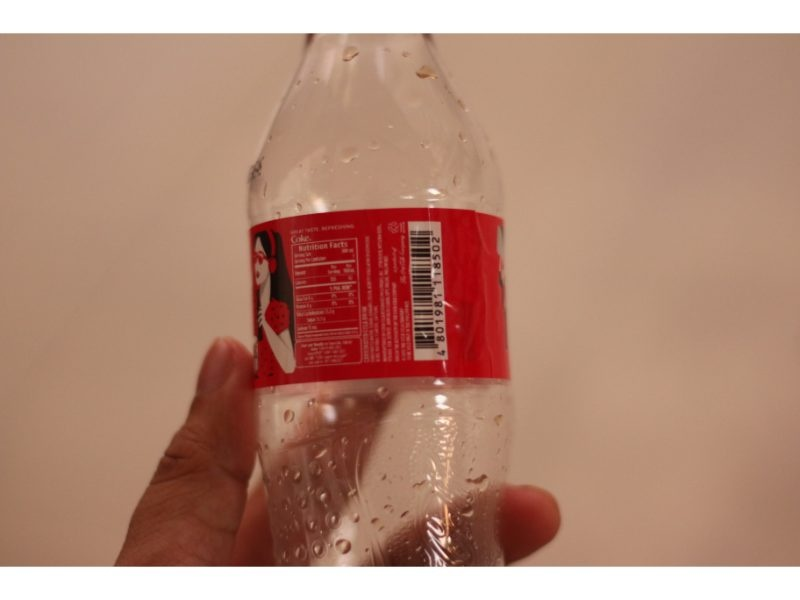PET #1: (241, 31, 508, 568)
